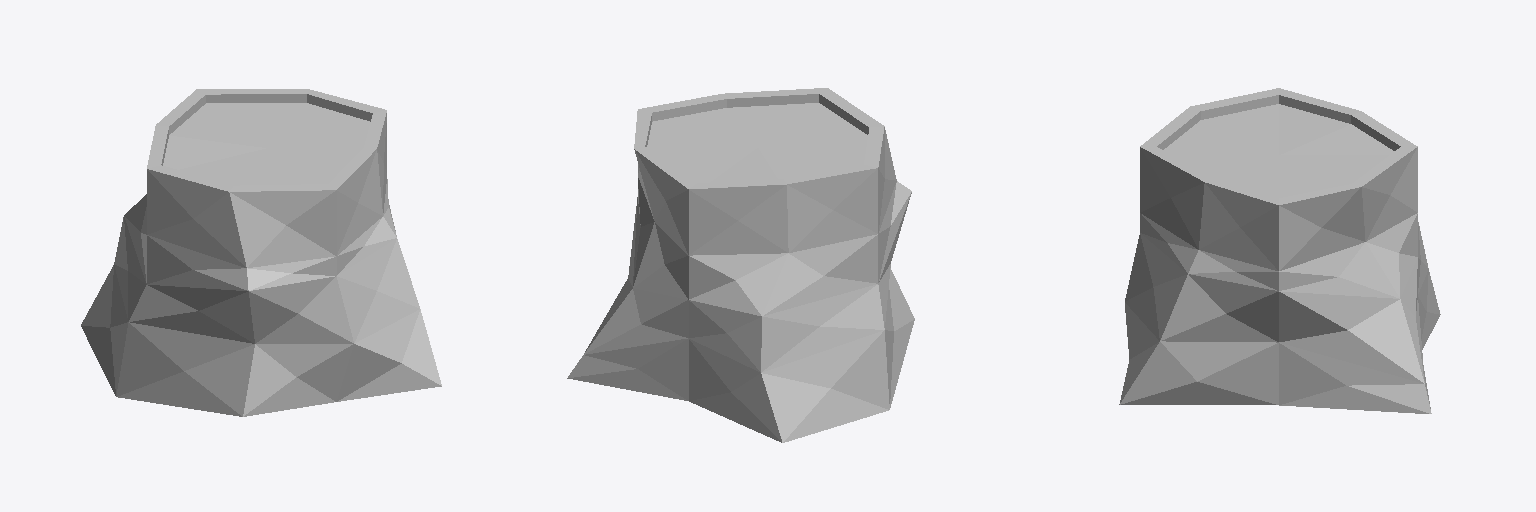
The model's file is treeStump.obj.
3 views of the same model, side by side, from view 1: azimuth 30°, elevation 25°; view 2: azimuth 150°, elevation 25°; view 3: azimuth 270°, elevation 25° (orthographic).
Visible parts, largest first — view 1: stump_geo; view 2: stump_geo; view 3: stump_geo.
Part boxes in pixels (bbox=[...]): stump_geo: bbox=[81, 89, 441, 416]; stump_geo: bbox=[567, 88, 914, 442]; stump_geo: bbox=[1119, 88, 1440, 413].
Size of the model in its own units: 0.7702 by 0.6515 by 0.819.